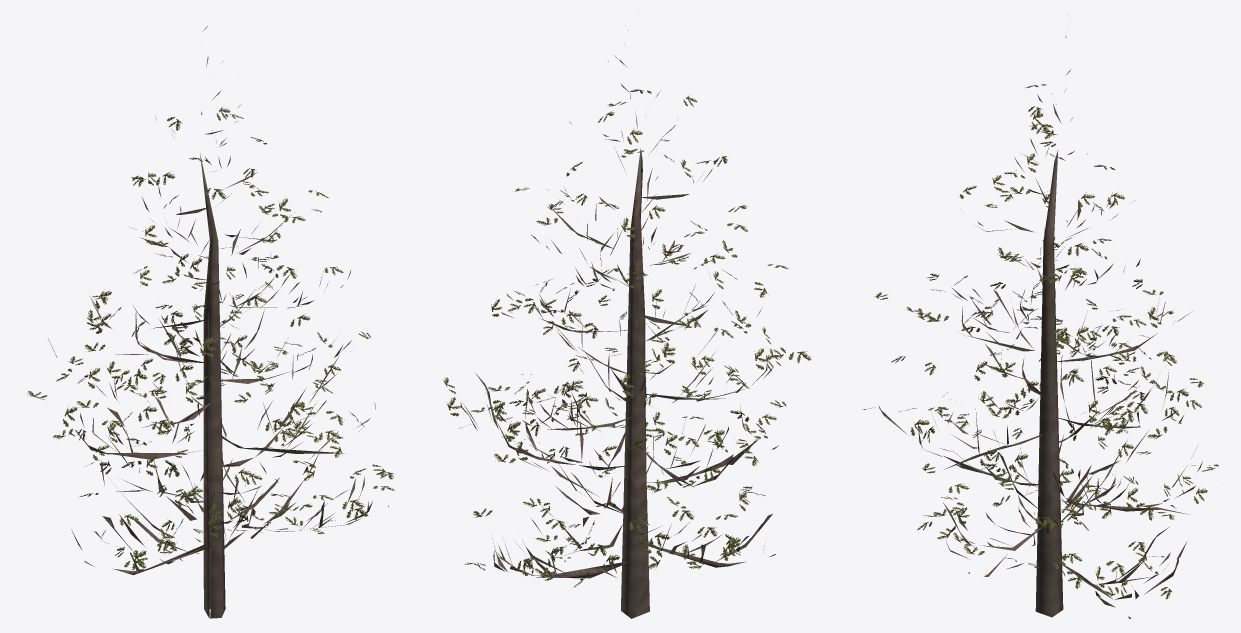
The model's file is pino1.glb.
3 views of the same model, side by side, from view 1: azimuth 30°, elevation 25°; view 2: azimuth 150°, elevation 25°; view 3: azimuth 270°, elevation 25° (orthographic). The views are drawn at different scales.
Visible parts, largest first — view 1: tronco, hojas; view 2: tronco, hojas; view 3: tronco, hojas.
Part boxes in pixels (x1,y1,x2,y2): tronco: (48, 26, 388, 618); hojas: (27, 106, 395, 570); tronco: (460, 55, 778, 618); hojas: (442, 89, 811, 587); tronco: (878, 36, 1202, 618); hojas: (862, 84, 1218, 599).
Size of the model in its own units: 2.55 by 4.66 by 2.69.
2 materials, 2 textured.
